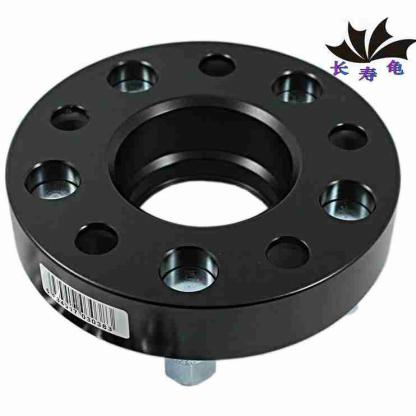FOD: (5, 38, 404, 361)
